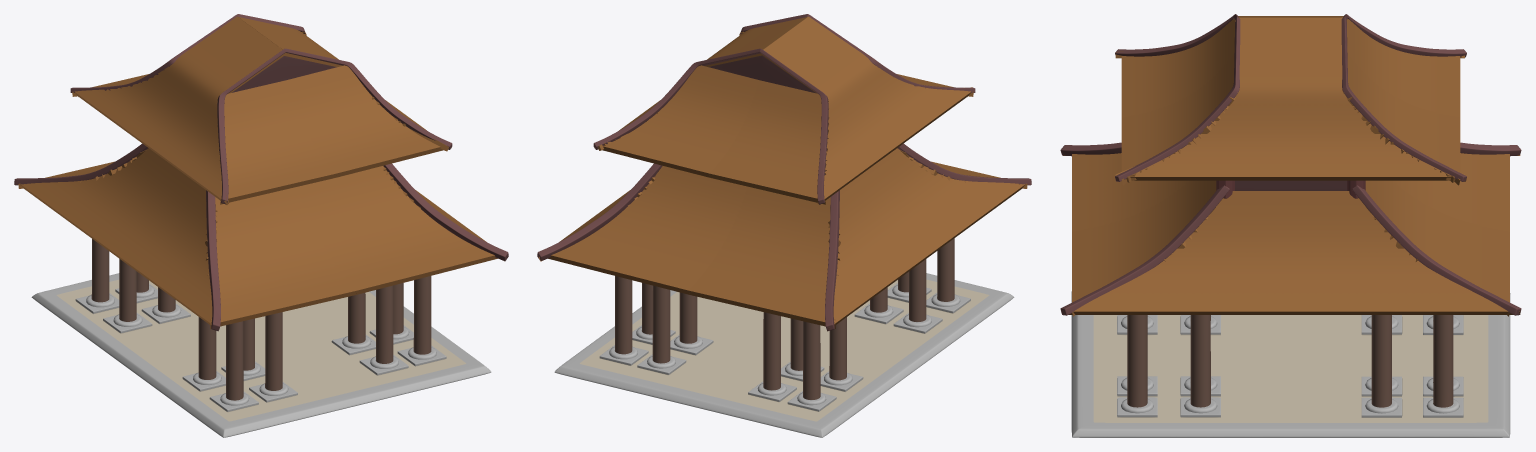
The model's file is temple.fbx.
The picture shows the model from 3 angles, left to right: view 1: azimuth 30°, elevation 25°; view 2: azimuth 150°, elevation 25°; view 3: azimuth 270°, elevation 25°; orthographic projection. The views are drawn at different scales.
Visible parts, largest first — view 1: roof_base_12, ground_geo, roof_base_17, root_base_03, roof_base_13, roof_curve_04 (×2), roof_curve_03 (×2), roof_base_15, column_geo_01, column_geo_04, column_geo_02, column_geo_03 (+11 smaller); view 2: roof_base_10, ground_geo, roof_base_18, root_base_03, roof_base_13, roof_curve_01 (×2), roof_curve_02 (×2), roof_base_15, column_geo_14, column_geo_16, column_geo_15, column_geo_13 (+11 smaller); view 3: ground_geo, root_base_02, roof_base_15, roof_base_10, roof_base_12, roof_base_18, roof_base_17, roof_curve_01 (×2), roof_curve_04 (×2), roof_curve_02 (×2), roof_curve_03 (×2), column_geo_13 (+5 smaller).
Boxes of the visible parts, x1,y1,x2,y2 form: roof_base_12: [205, 166, 497, 328]; ground_geo: [31, 273, 491, 437]; roof_base_17: [220, 65, 443, 204]; root_base_03: [21, 148, 217, 324]; roof_base_13: [74, 16, 283, 204]; roof_curve_04 (×2): [217, 48, 508, 261]; roof_curve_03 (×2): [206, 48, 452, 331]; roof_base_15: [237, 16, 448, 151]; column_geo_01: [220, 321, 249, 405]; column_geo_04: [408, 276, 436, 359]; column_geo_02: [259, 312, 288, 395]; column_geo_03: [370, 285, 398, 368]; roof_base_10: [548, 166, 840, 328]; ground_geo: [554, 273, 1014, 437]; roof_base_18: [602, 65, 827, 204]; root_base_03: [827, 148, 1024, 330]; roof_base_13: [762, 16, 972, 204]; roof_curve_01 (×2): [537, 48, 828, 260]; roof_curve_02 (×2): [593, 48, 839, 331]; roof_base_15: [598, 16, 808, 150]; column_geo_14: [647, 285, 675, 368]; column_geo_16: [797, 321, 826, 405]; column_geo_15: [757, 312, 786, 395]; column_geo_13: [609, 276, 637, 359]; ground_geo: [1071, 291, 1510, 437]; root_base_02: [1069, 191, 1520, 314]; roof_base_15: [1115, 17, 1464, 180]; roof_base_10: [1365, 153, 1509, 316]; roof_base_12: [1072, 153, 1216, 316]; roof_base_18: [1342, 19, 1460, 185]; roof_base_17: [1121, 19, 1239, 185]; roof_curve_01 (×2): [1342, 14, 1521, 315]; roof_curve_04 (×2): [1060, 14, 1239, 315]; roof_curve_02 (×2): [1341, 17, 1521, 181]; roof_curve_03 (×2): [1060, 17, 1240, 181]; column_geo_13: [1426, 315, 1459, 413].
Size of the model in its own units: 8.84 by 8.65 by 10.42.
